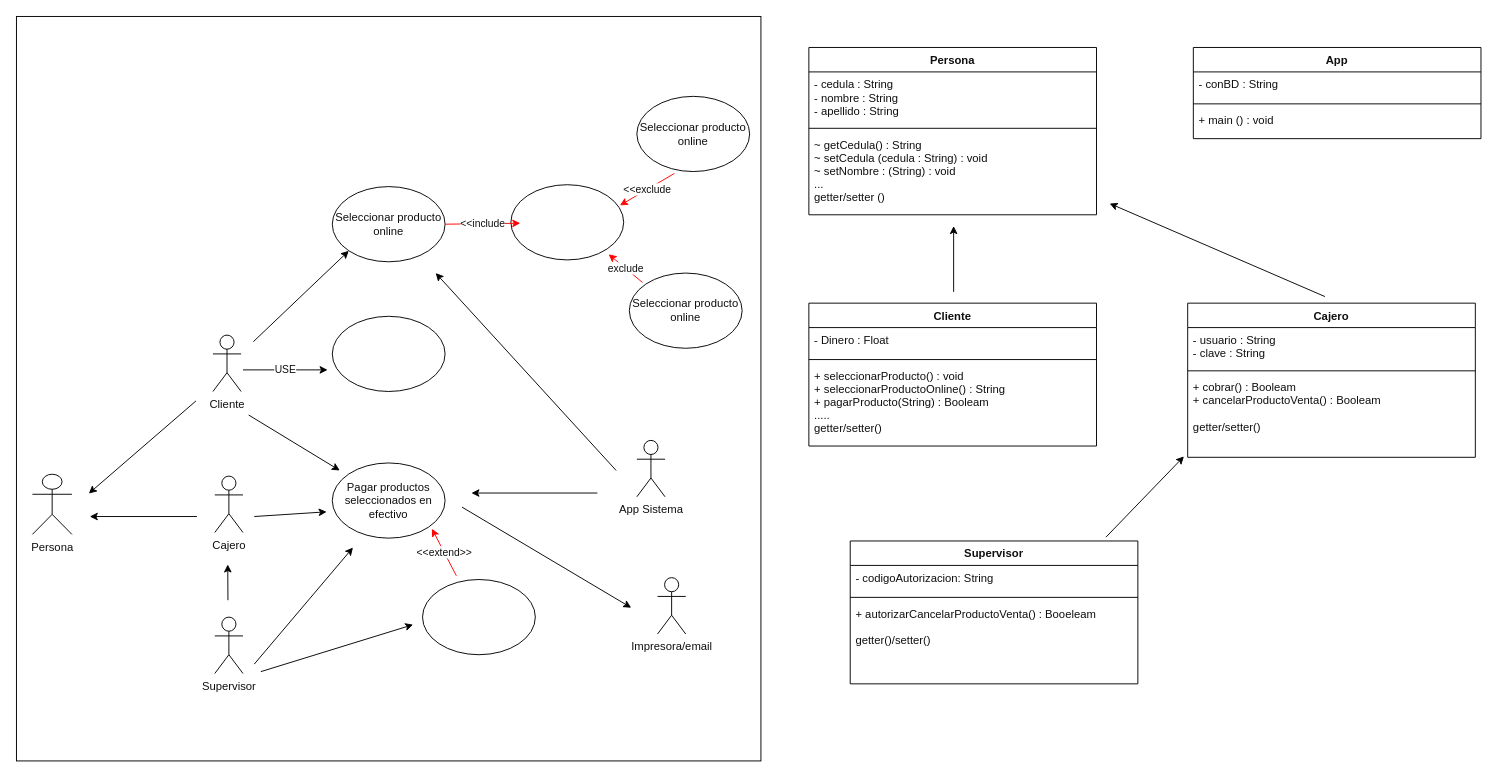
Some shapes in this 1497 by 777 pixel diagram are drawn without their labels. The centre of each missing label's shape, as x and y in pixels:
"Cancelar compra o producto" belongs at (478,617).
"Pagar producto seleccionar" belongs at (567,222).
"Seleccionar productos de las perchas" belongs at (388,353).
